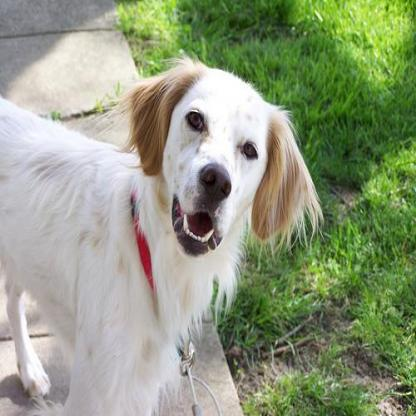English_setter: (0, 55, 321, 414)
